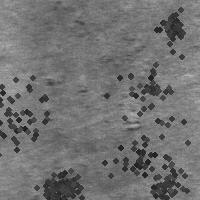rolled-in_scale: (95, 36, 200, 142), (97, 107, 187, 197), (0, 60, 64, 160), (88, 34, 147, 135), (134, 147, 200, 200), (32, 160, 88, 200), (149, 4, 191, 46)
